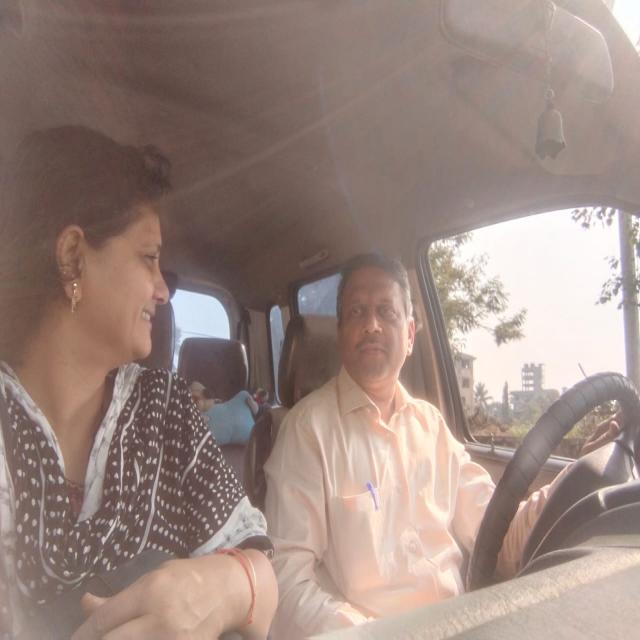LeftRight: (330, 245, 418, 388)
person: (12, 138, 173, 374)
